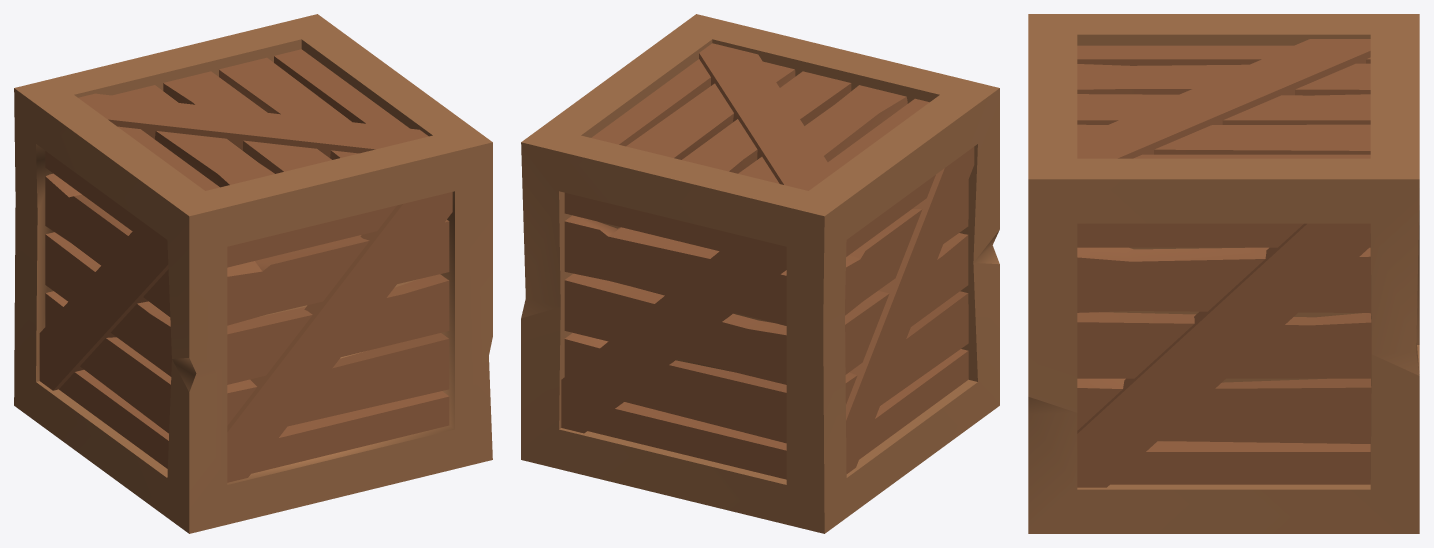
The model's file is Crate.fbx.
The picture shows the model from 3 angles, left to right: view 1: azimuth 30°, elevation 25°; view 2: azimuth 150°, elevation 25°; view 3: azimuth 270°, elevation 25°; orthographic projection. The views are drawn at different scales.
Visible parts, largest first — view 1: Crate; view 2: Crate; view 3: Crate.
Boxes of the visible parts, <box> form: Crate: <box>14,14,492,533</box>; Crate: <box>521,14,999,533</box>; Crate: <box>1028,14,1419,533</box>.
Size of the model in its own units: 100 by 100 by 100.
